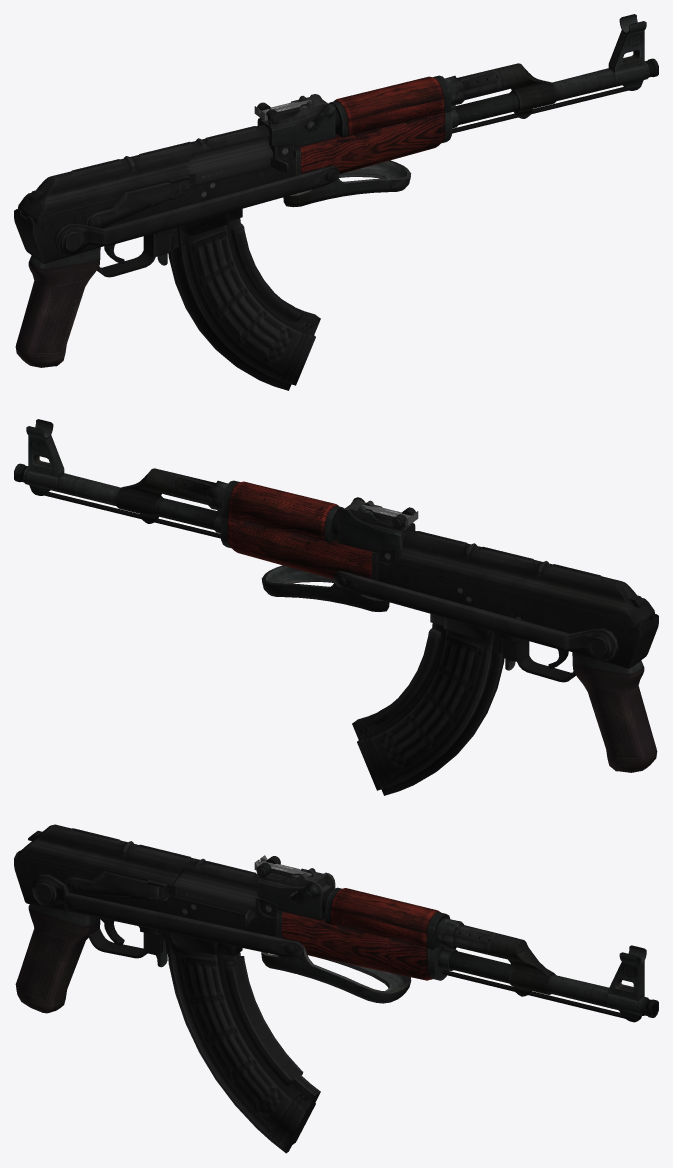
Rendered from akm.fbx.
3 views of the same model, one above another, from view 1: azimuth 30°, elevation 25°; view 2: azimuth 150°, elevation 25°; view 3: azimuth 330°, elevation 25° (orthographic).
Parts seen in each view (by area): view 1: AKM_LP_Final; view 2: AKM_LP_Final; view 3: AKM_LP_Final.
Boxes of the visible parts, <box> form: AKM_LP_Final: <box>14,14,658,390</box>; AKM_LP_Final: <box>14,419,658,795</box>; AKM_LP_Final: <box>14,824,658,1153</box>.
Bounding box in the file's own units: 6683 × 2883 × 841.
